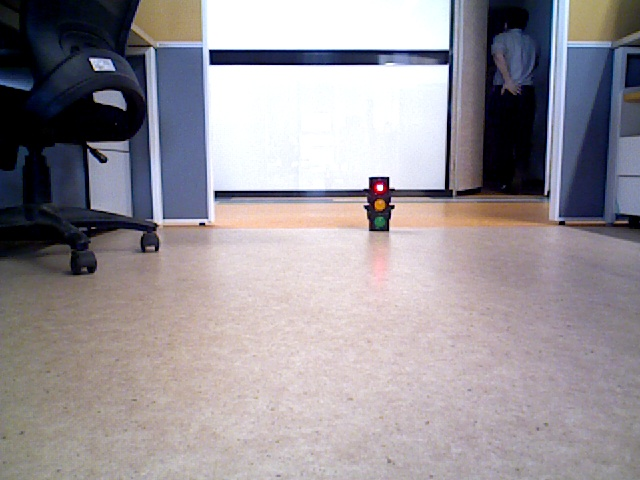red: (367, 180, 388, 225)
